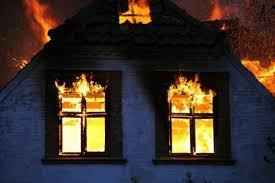fire: (53, 71, 106, 157), (168, 73, 215, 154), (53, 72, 105, 114), (241, 54, 275, 102), (22, 0, 55, 45), (117, 0, 152, 24), (207, 0, 227, 23)
